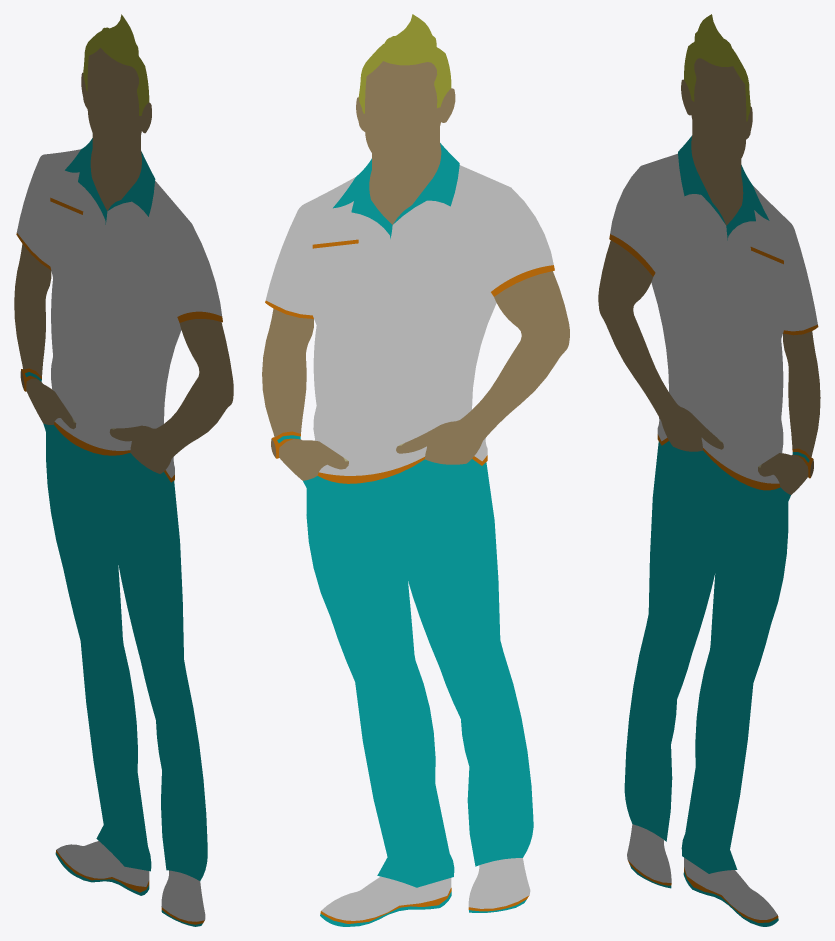
The picture shows the model from 3 angles, left to right: view 1: azimuth 90°, elevation 25°; view 2: azimuth 150°, elevation 25°; view 3: azimuth 270°, elevation 25°; orthographic projection. The views are drawn at different scales.
Parts seen in each view (by area): view 1: Chris (×13); view 2: Chris (×13); view 3: Chris (×13).
Boxes of the visible parts, box(x1,y1,x2,y2) form: Chris (×13): box(14, 14, 233, 921); Chris (×13): box(262, 14, 569, 920); Chris (×13): box(598, 14, 820, 919).
Size of the model in its own units: 16.12 by 16.12 by 71.62.
